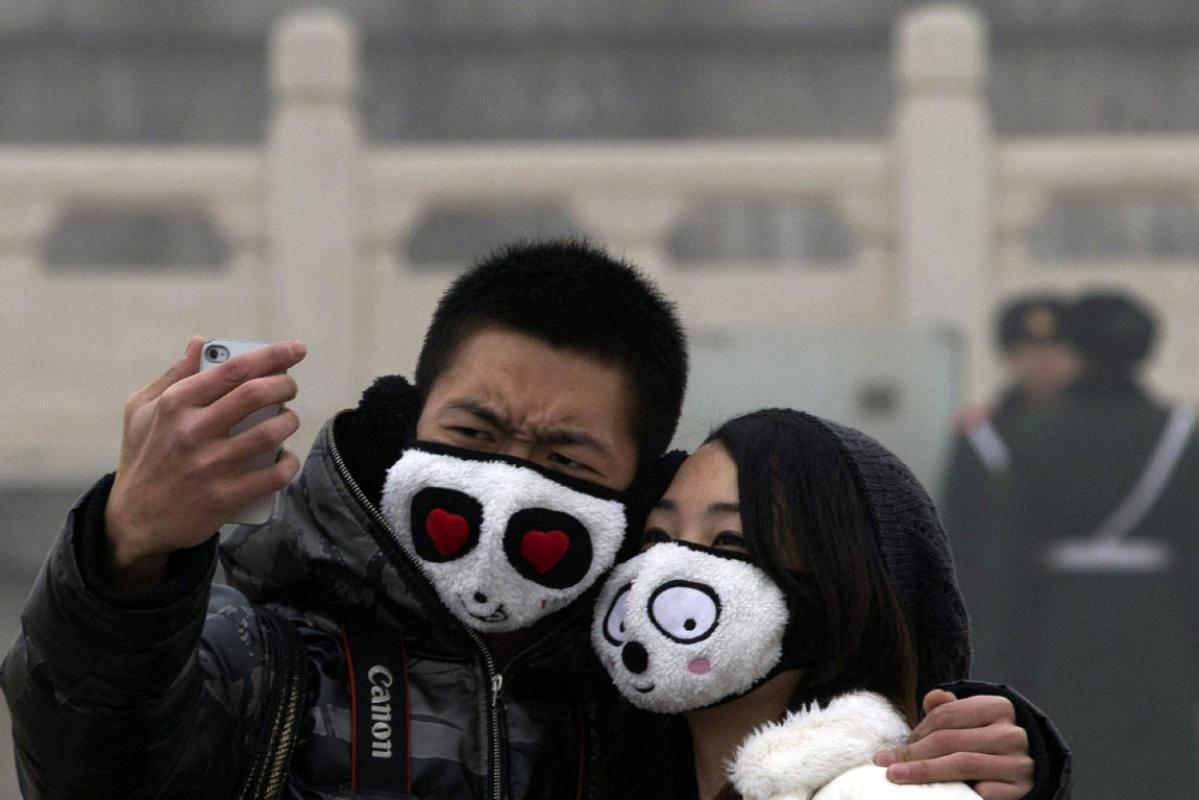Wearing Mask: (326, 175, 640, 648), (587, 345, 887, 733)
